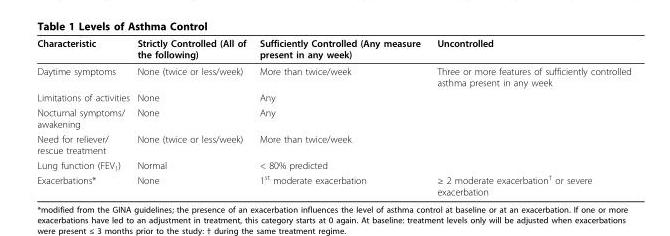table: (36, 37, 630, 196)
table column: (428, 37, 630, 196), (252, 37, 428, 196), (132, 37, 252, 196), (36, 37, 132, 196)
table column header: (36, 37, 630, 62)
table row: (36, 62, 630, 89), (36, 104, 630, 131), (36, 131, 630, 157), (36, 37, 630, 62), (36, 172, 630, 196), (36, 89, 630, 104), (36, 157, 630, 172)
